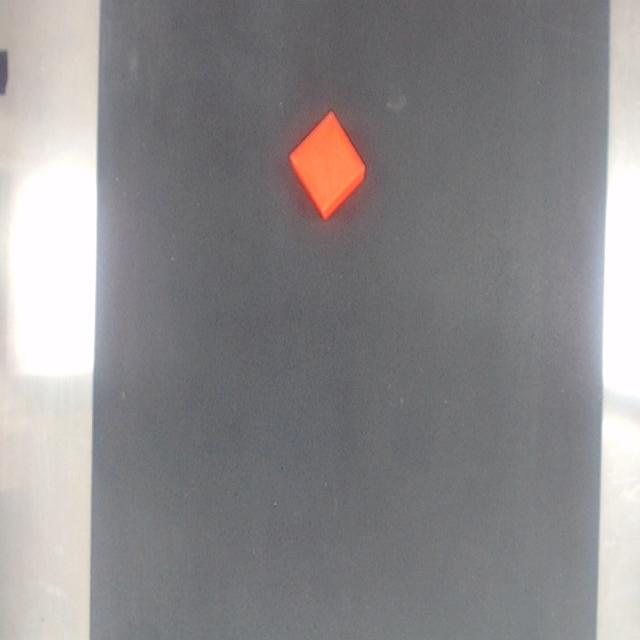Rojo: (289, 111, 365, 220), (289, 111, 365, 220)
